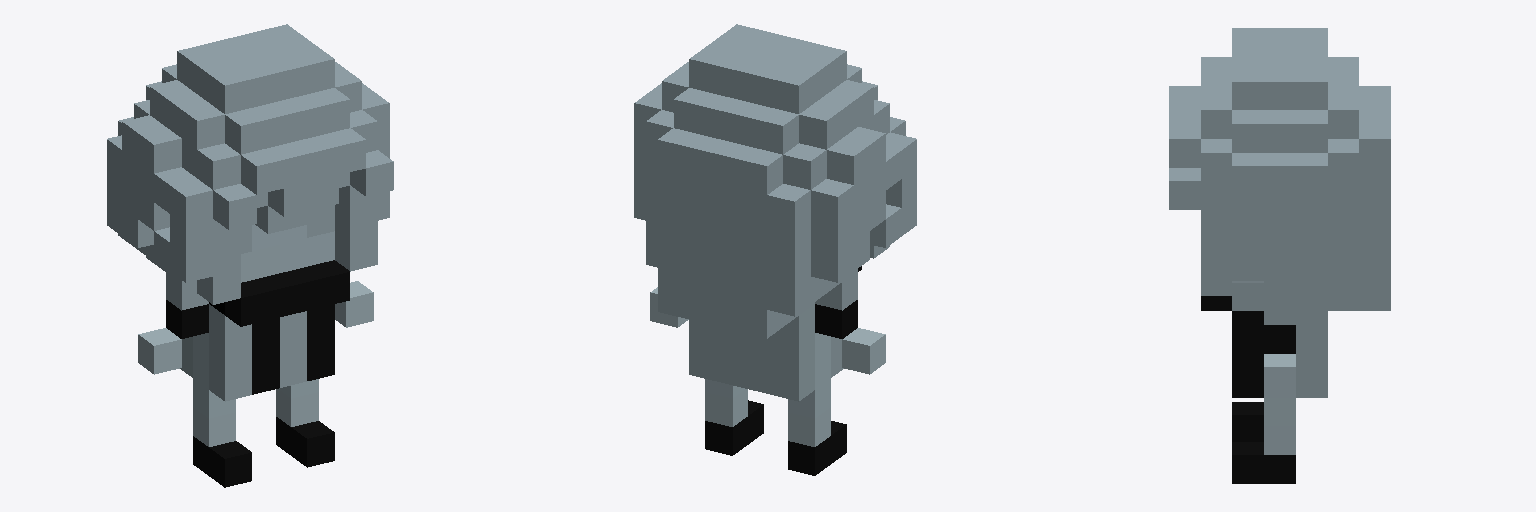
3 views of the same model, side by side, from view 1: azimuth 30°, elevation 25°; view 2: azimuth 150°, elevation 25°; view 3: azimuth 270°, elevation 25° (orthographic).
Visible parts, largest first — view 1: boy3-3; view 2: boy3-3; view 3: boy3-3.
Boxes of the visible parts, box(x1,y1,x2,y2) form: boy3-3: box(107, 24, 393, 487); boy3-3: box(634, 24, 916, 475); boy3-3: box(1169, 28, 1390, 483).
Size of the model in its own units: 8 by 14 by 7.
Materials: 1 (1 with a texture image).